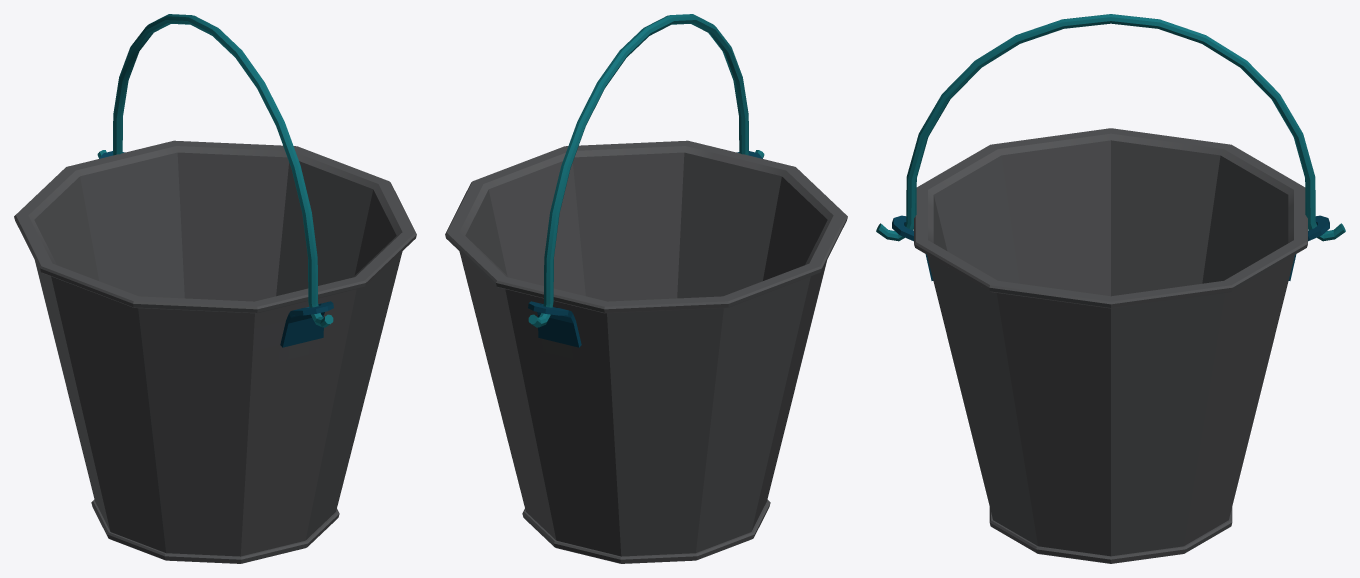
Rendered from BaldeNormal.fbx.
3 views of the same model, side by side, from view 1: azimuth 30°, elevation 25°; view 2: azimuth 150°, elevation 25°; view 3: azimuth 270°, elevation 25° (orthographic). The views are drawn at different scales.
Visible parts, largest first — view 1: Balde, ManijaBalde; view 2: Balde, ManijaBalde; view 3: Balde, ManijaBalde.
Part boxes in pixels (x1,y1,x2,y2): Balde: [14, 140, 416, 563]; ManijaBalde: [97, 14, 333, 327]; Balde: [445, 140, 847, 563]; ManijaBalde: [528, 14, 764, 327]; Balde: [892, 128, 1329, 563]; ManijaBalde: [876, 14, 1345, 241].
Size of the model in its own units: 23.97 by 31.74 by 27.19.
